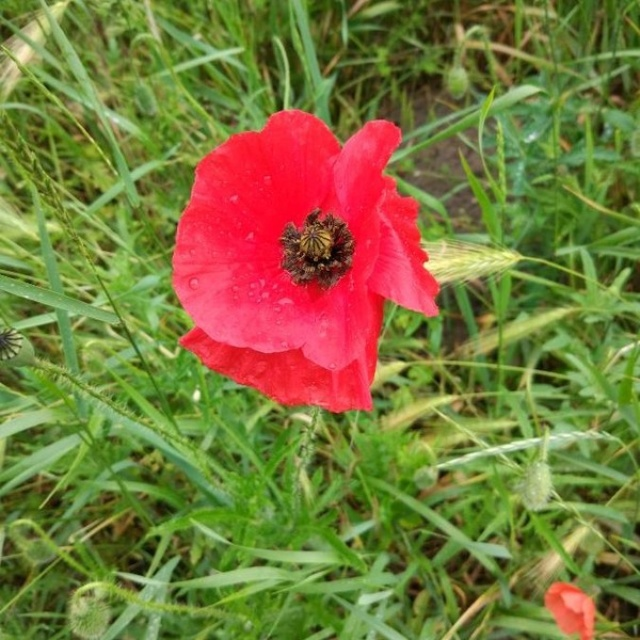obstacle: (32, 257, 444, 591), (126, 105, 453, 427)
